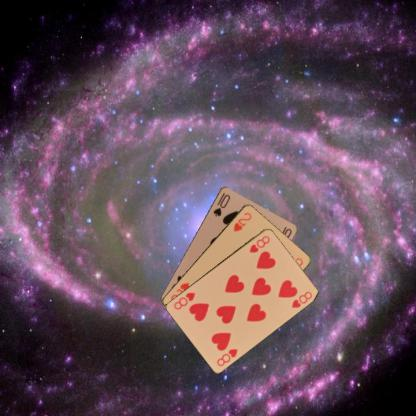10s: (210, 190, 231, 217)
2h: (230, 210, 252, 232)
8h: (214, 345, 239, 367), (247, 233, 271, 254)
